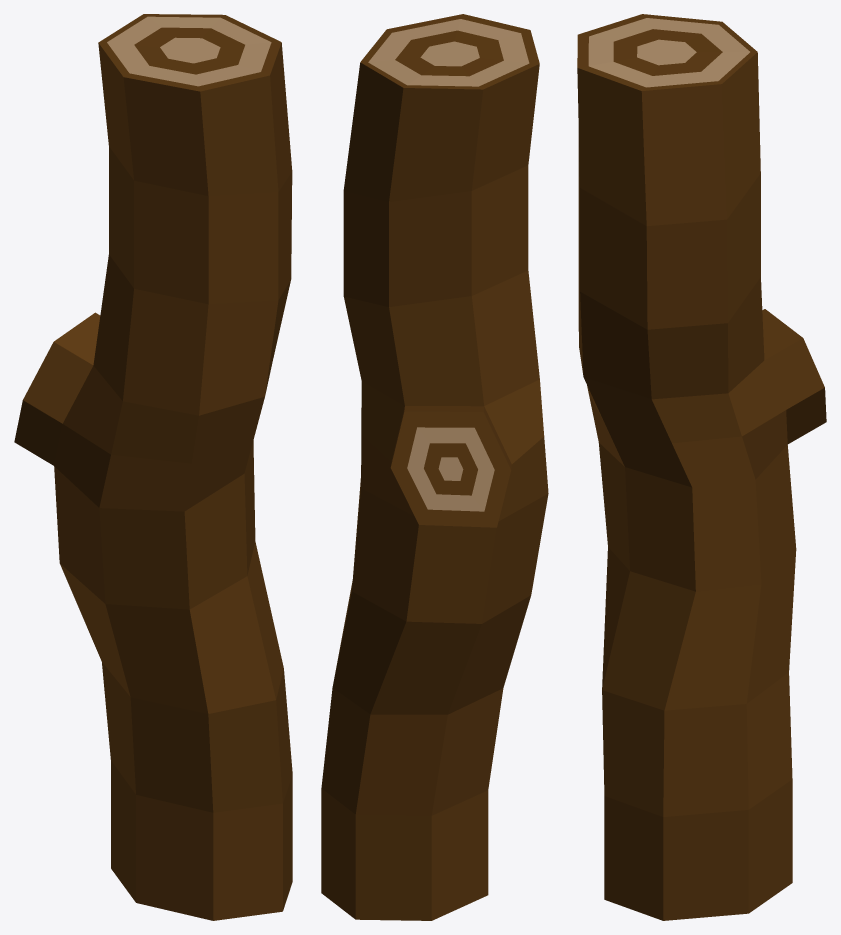
Rendered from Log01.fbx.
3 views of the same model, side by side, from view 1: azimuth 30°, elevation 25°; view 2: azimuth 150°, elevation 25°; view 3: azimuth 270°, elevation 25° (orthographic). The views are drawn at different scales.
Parts seen in each view (by area): view 1: Cylinder; view 2: Cylinder; view 3: Cylinder.
Part boxes in pixels (bbox=[...]): Cylinder: bbox=[14, 14, 292, 920]; Cylinder: bbox=[321, 14, 548, 920]; Cylinder: bbox=[577, 14, 826, 920].
Bounding box in the file's own units: 281 × 1067 × 293.
